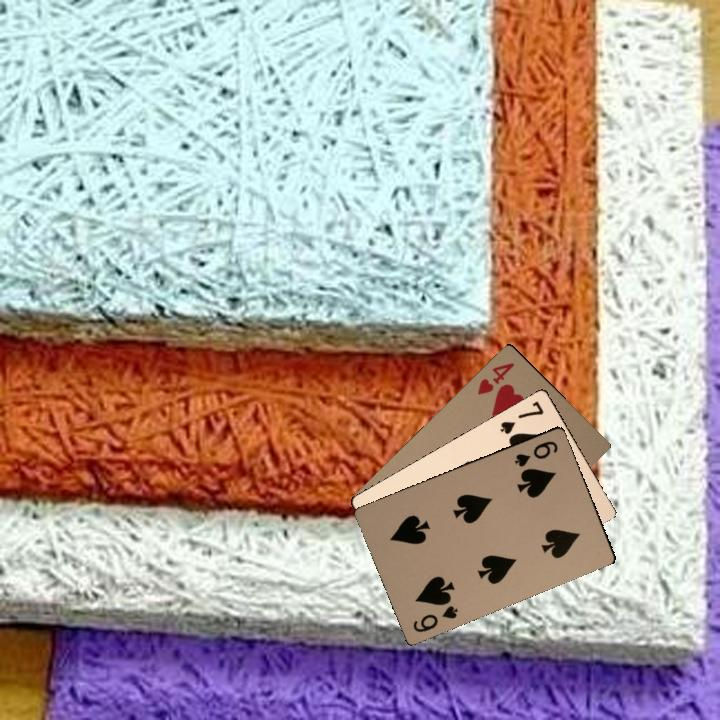4h: (473, 358, 517, 397)
6s: (409, 601, 460, 635), (510, 437, 560, 470)
7s: (496, 397, 546, 437)
